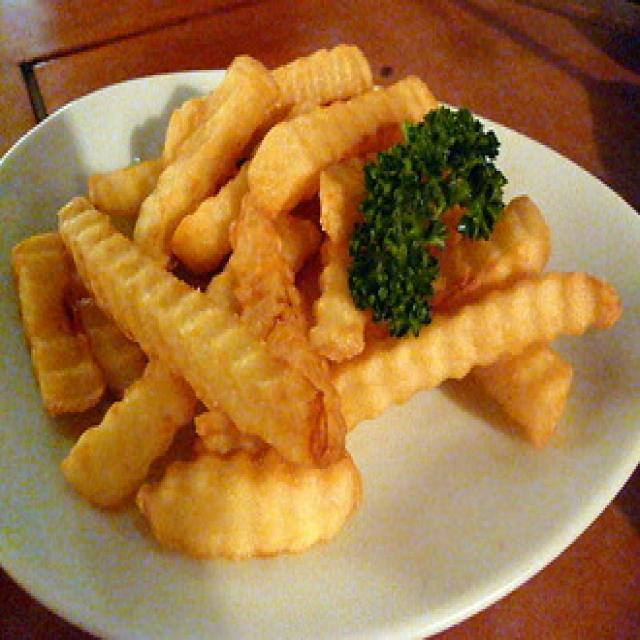French Fries: (0, 14, 264, 263)
